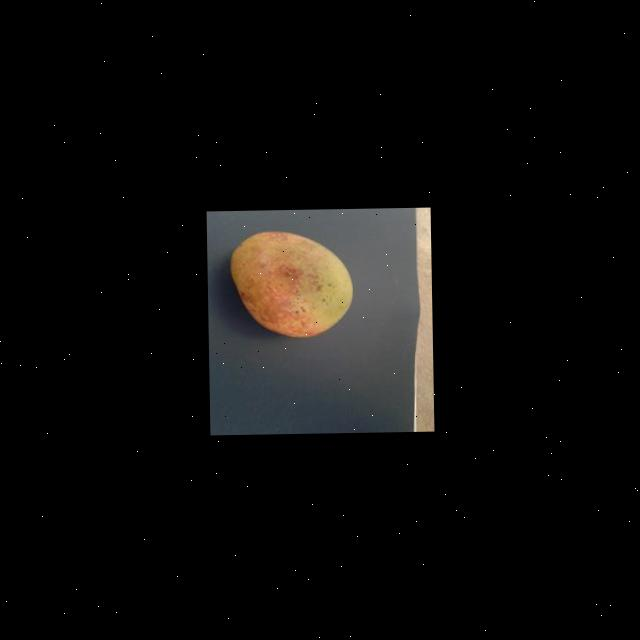Mango: (228, 228, 354, 338)
